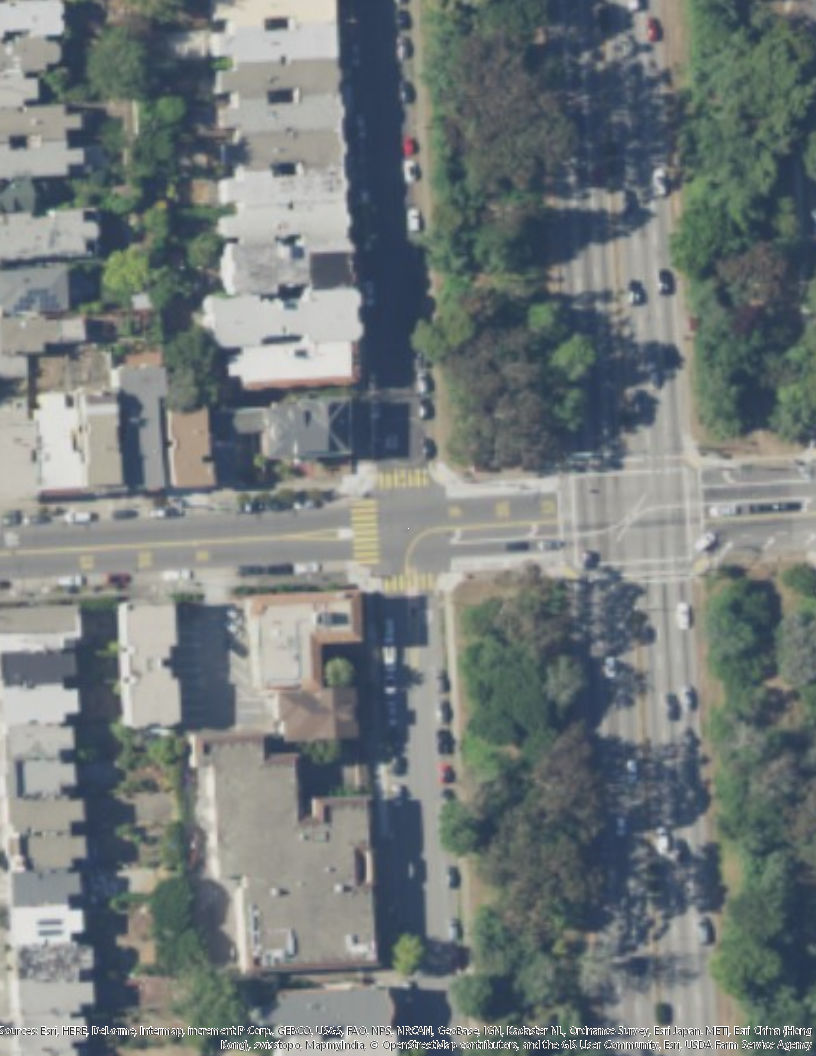zebracross: (378, 567, 449, 597), (350, 499, 378, 570), (379, 458, 433, 489)
